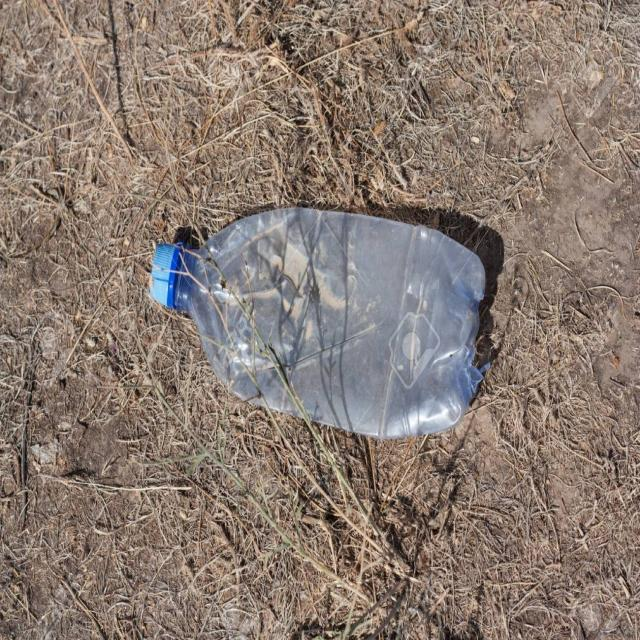plastic_bottle: (148, 205, 488, 440)
